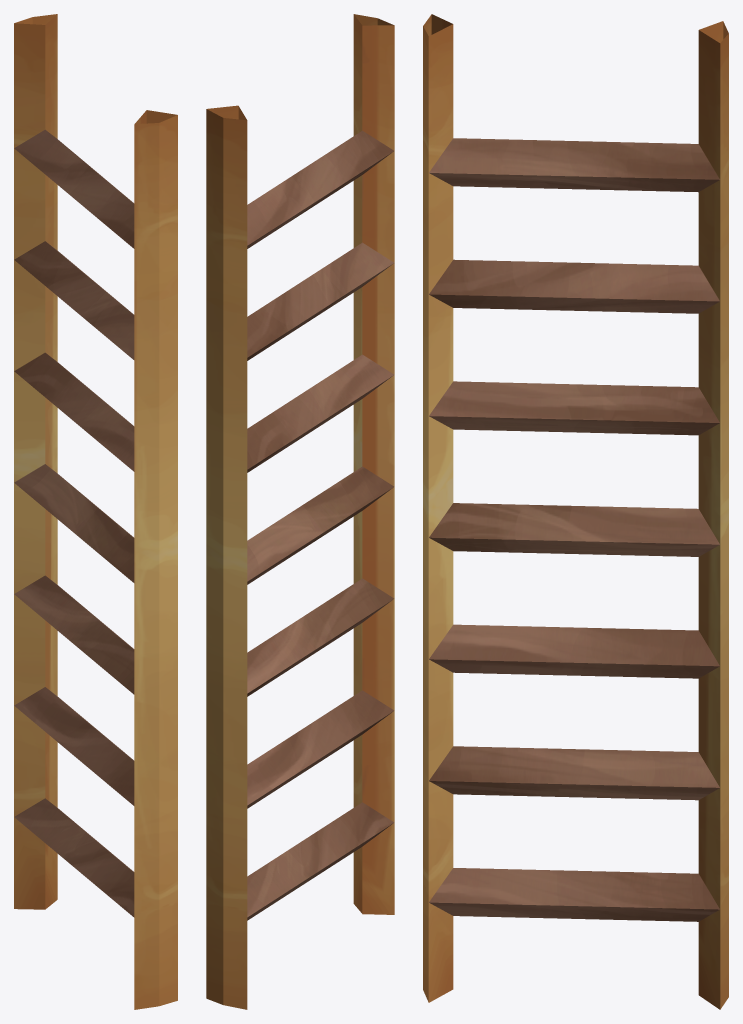
File: Ladder.fbx
3 views of the same model, side by side, from view 1: azimuth 30°, elevation 25°; view 2: azimuth 150°, elevation 25°; view 3: azimuth 270°, elevation 25° (orthographic). The views are drawn at different scales.
Parts seen in each view (by area): view 1: Ladder; view 2: Ladder; view 3: Ladder.
Part boxes in pixels (left/top/right/bottom): Ladder: left=14, top=14, right=177, bottom=1009; Ladder: left=206, top=14, right=394, bottom=1009; Ladder: left=423, top=14, right=728, bottom=1009.
Bounding box in the file's own units: 12.95 × 199 × 56.97.
